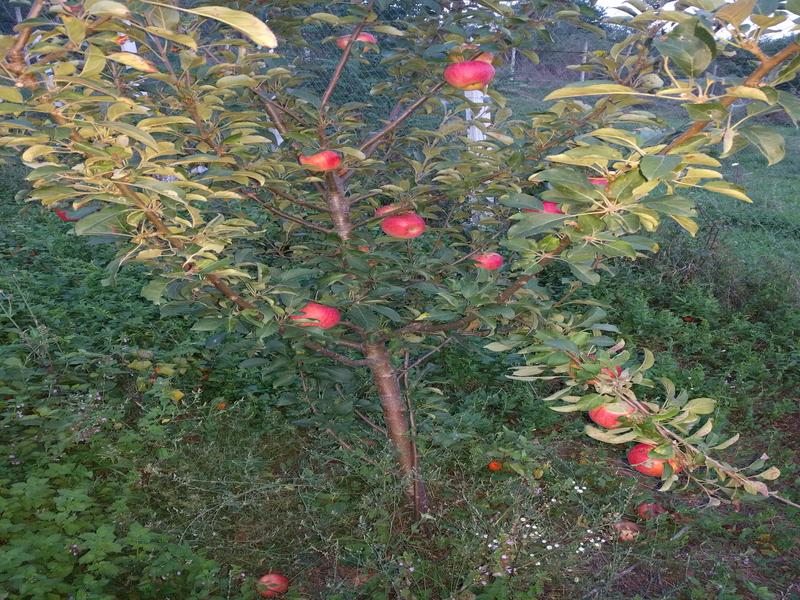apple: (370, 203, 430, 242), (443, 57, 503, 94), (288, 300, 345, 334)
